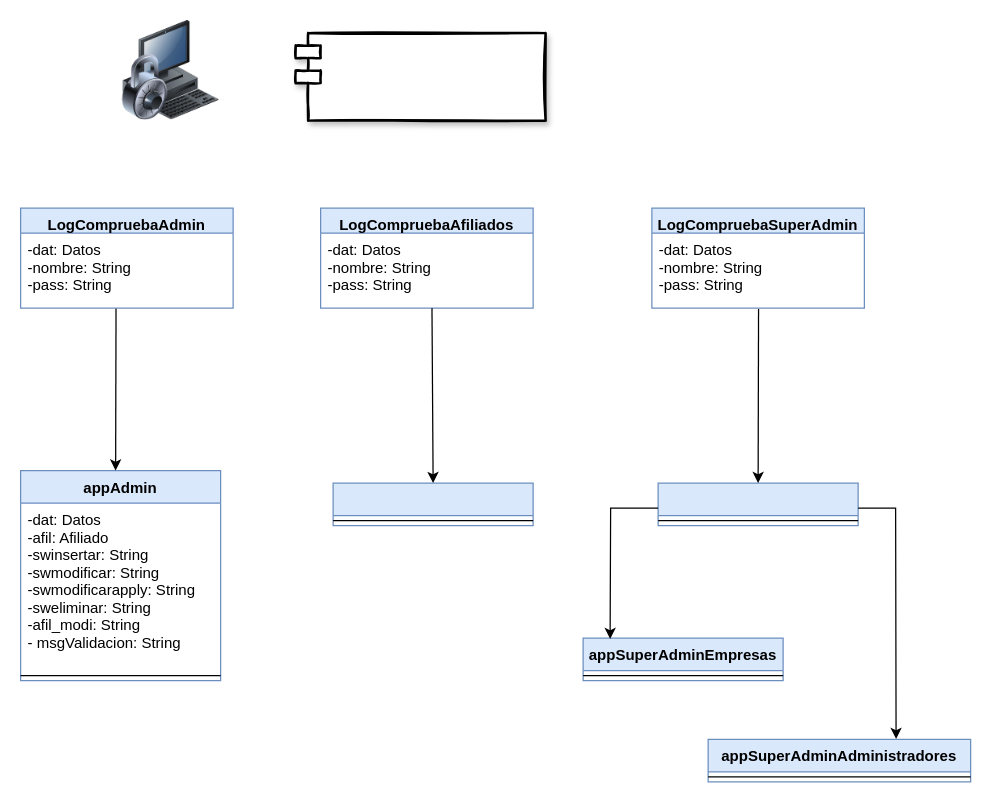
Image size: 991x803. Some labels were removed from this diagram. Each missing label, with the centre of its shape:
appAfiliado: pixel 432 504
appSuperAdmin: pixel 757 504
CONTROLADOR: pixel 421 78
